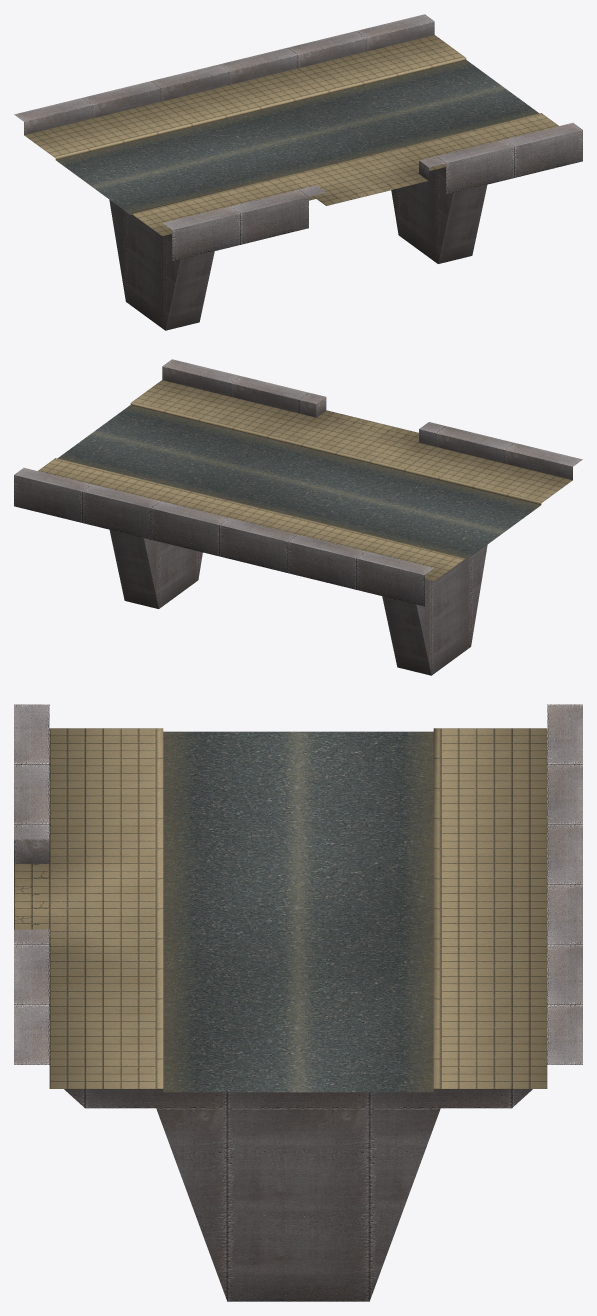
Rendered from M10_Zone1_FlyOver3.glb.
The picture shows the model from 3 angles, top to bottom: view 1: azimuth 30°, elevation 25°; view 2: azimuth 150°, elevation 25°; view 3: azimuth 270°, elevation 25°; orthographic projection. The views are drawn at different scales.
Visible parts, largest first — view 1: M10_ZONE1_FLYOVER3; view 2: M10_ZONE1_FLYOVER3; view 3: M10_ZONE1_FLYOVER3.
Boxes of the visible parts, x1,y1,x2,y2 form: M10_ZONE1_FLYOVER3: (14,14,582,330); M10_ZONE1_FLYOVER3: (14,359,582,675); M10_ZONE1_FLYOVER3: (14,704,582,1301).
Size of the model in its own units: 24 by 8.75 by 16.
6 materials, 6 textured.
